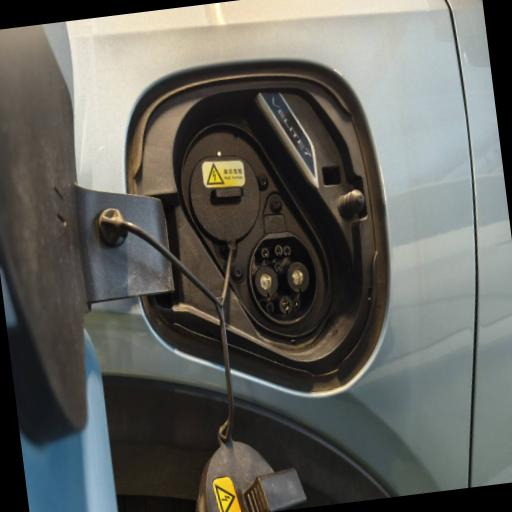DC_charging_port: (242, 225, 326, 331)
DC_hole: (284, 260, 312, 294), (253, 265, 280, 300)
PE: (278, 296, 296, 317)
